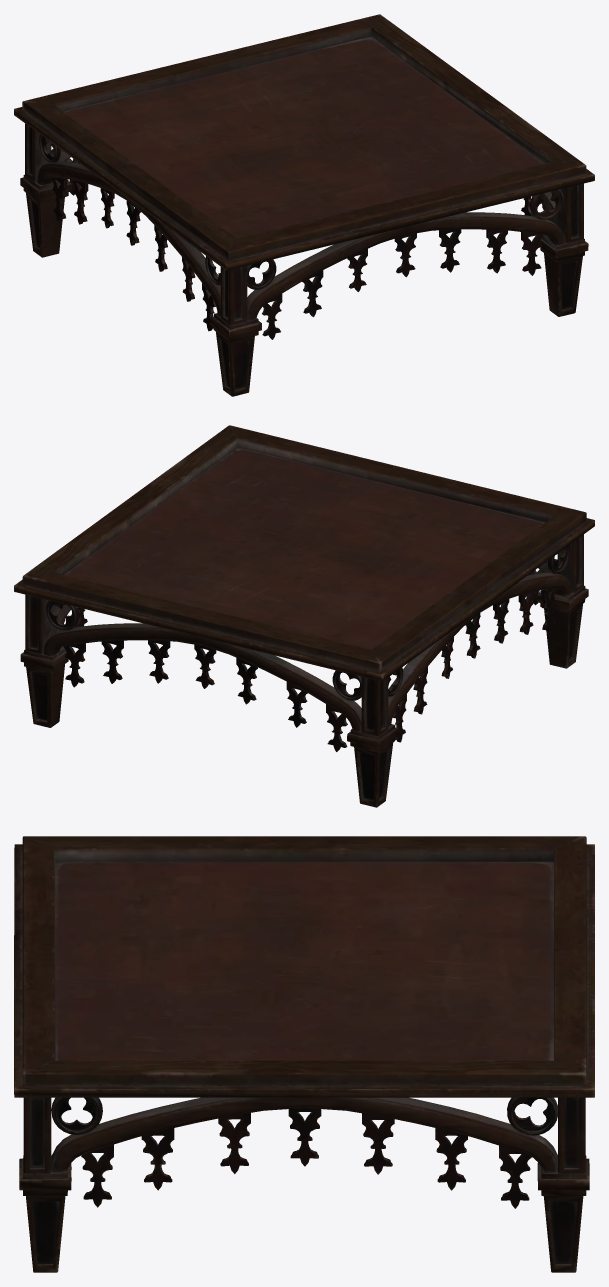
Rendered from table.glb.
3 views of the same model, one above another, from view 1: azimuth 30°, elevation 25°; view 2: azimuth 150°, elevation 25°; view 3: azimuth 270°, elevation 25° (orthographic). The views are drawn at different scales.
Parts seen in each view (by area): view 1: gothic_coffee_table; view 2: gothic_coffee_table; view 3: gothic_coffee_table.
Boxes of the visible parts, x1,y1,x2,y2 form: gothic_coffee_table: (14, 14, 594, 396); gothic_coffee_table: (14, 425, 594, 807); gothic_coffee_table: (14, 836, 594, 1272).
Size of the model in its own units: 1.44 by 0.5588 by 1.44.
Materials: 1 (1 with a texture image).
